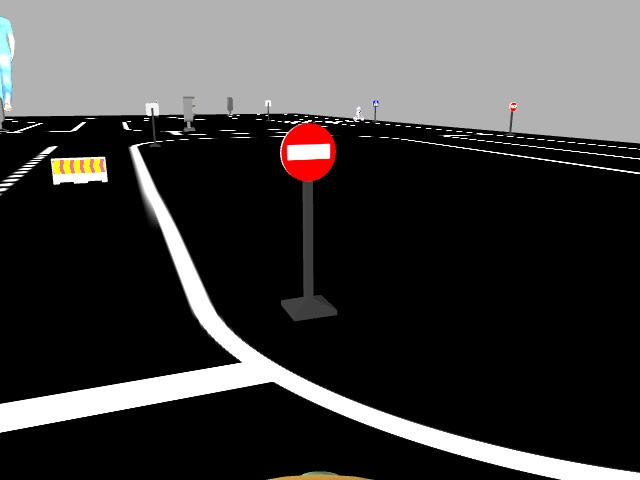ClosedRoadStand: (51, 158, 105, 179)
NoEntry: (279, 126, 333, 177)
